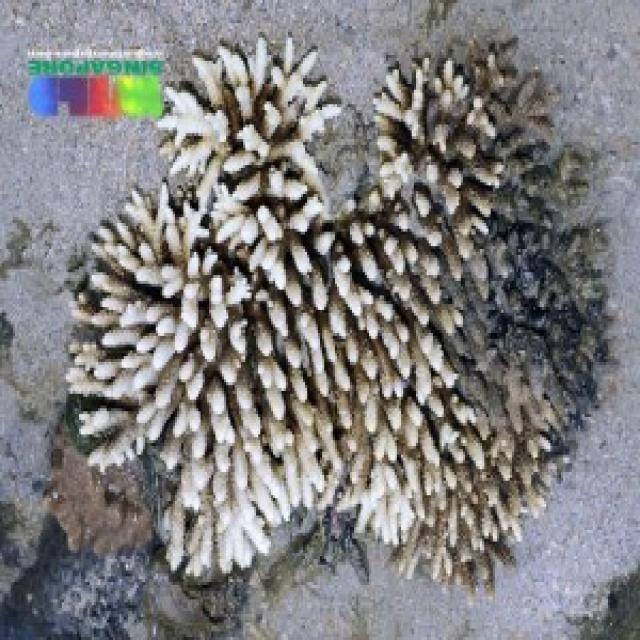Bleached: (68, 36, 600, 583)
